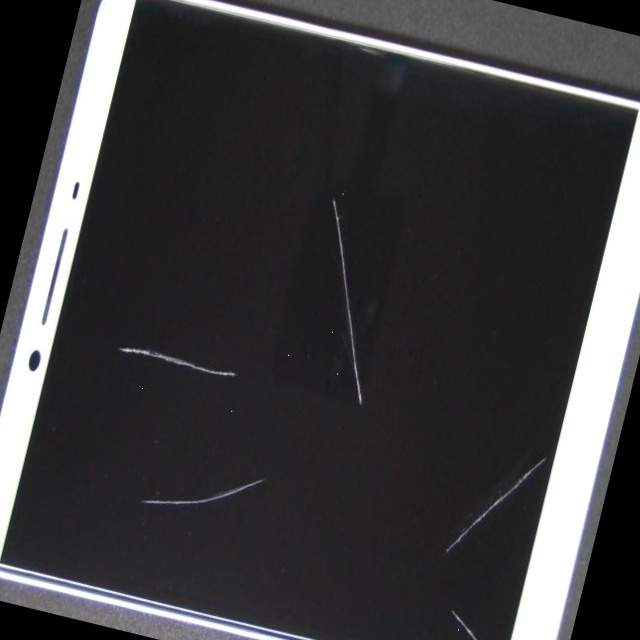scratch: (91, 0, 562, 464), (145, 234, 640, 640), (0, 121, 259, 631)
